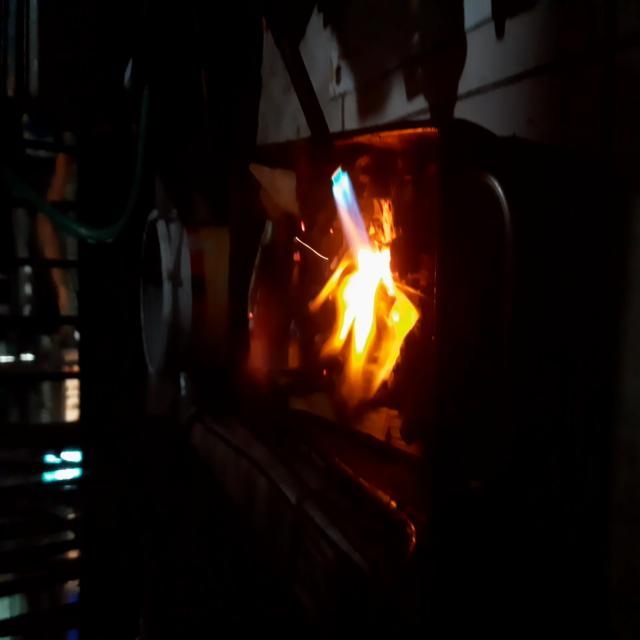Fire: (308, 162, 415, 400)
